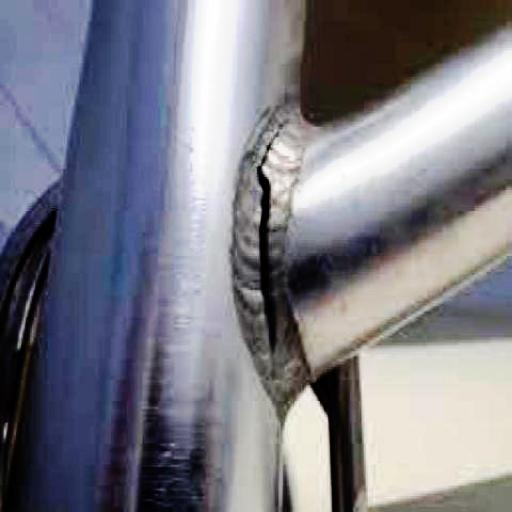crack: (245, 108, 301, 368)
